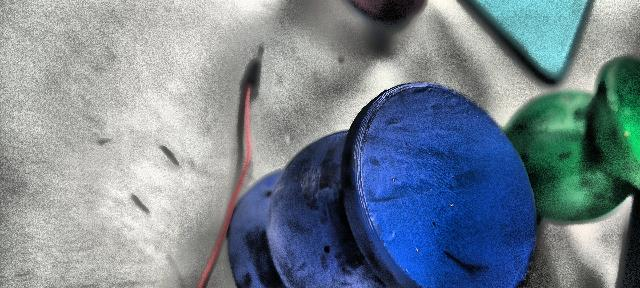blue: (223, 81, 534, 288)
green: (504, 50, 640, 233)
